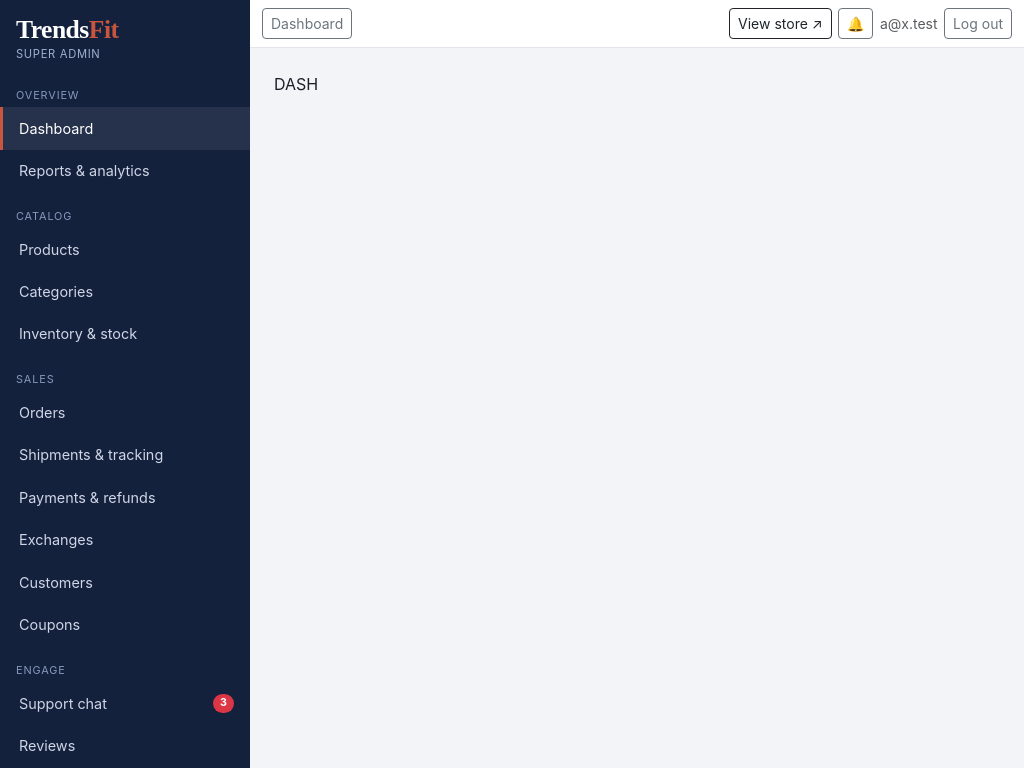
Test: AdminLayout › keeps the layout while moving between pages and offers a Dashboard link
The width and height of the screenshot is (1024, 768).
Expected: the text "DASH" is shown, left=274, top=74, right=318, bottom=94
Click the link "Orders" at (42, 413), box left=19, top=404, right=65, bottom=421
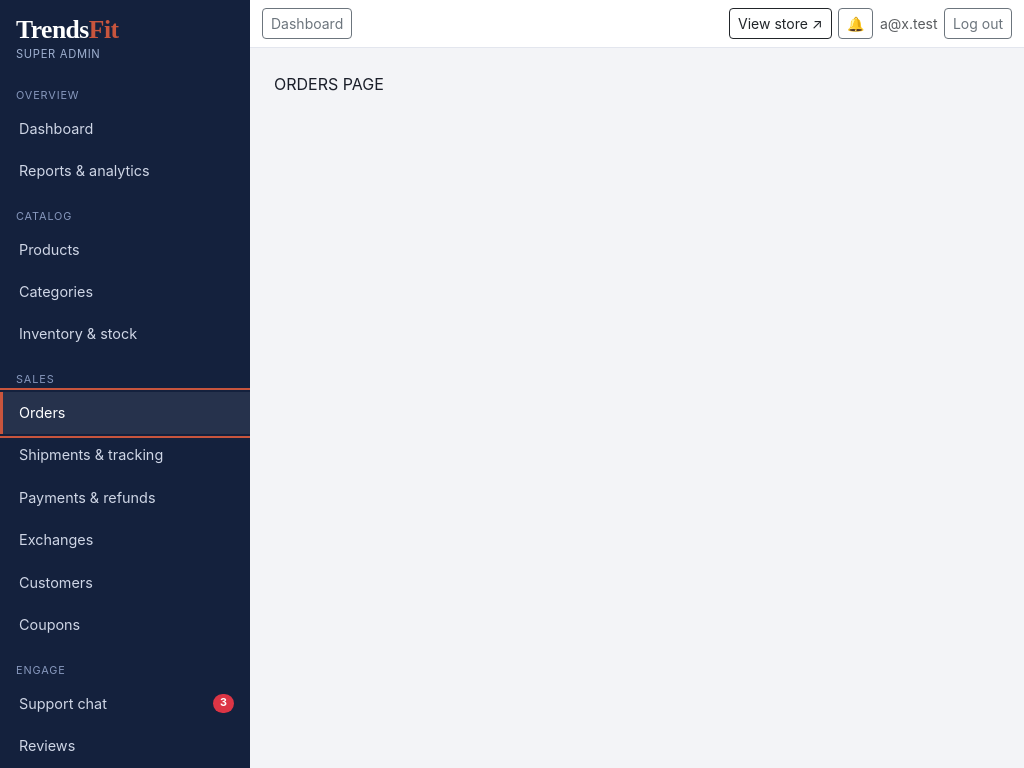
Expected: the link "Dashboard" below "Overview" is shown, left=19, top=120, right=93, bottom=136
Expected: the text "ORDERS PAGE" is shown, left=274, top=74, right=384, bottom=94
